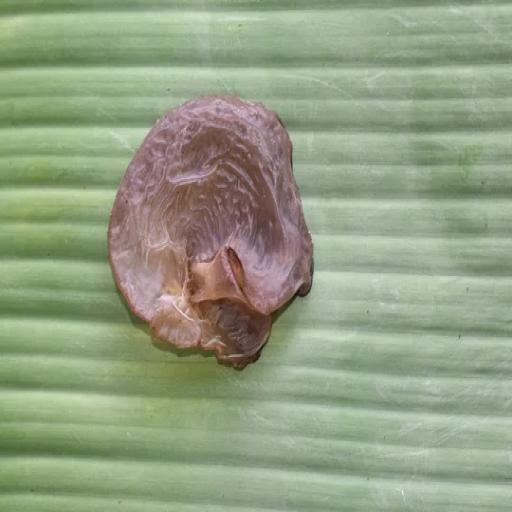Wood Ear Mushroom: (106, 91, 320, 373)
